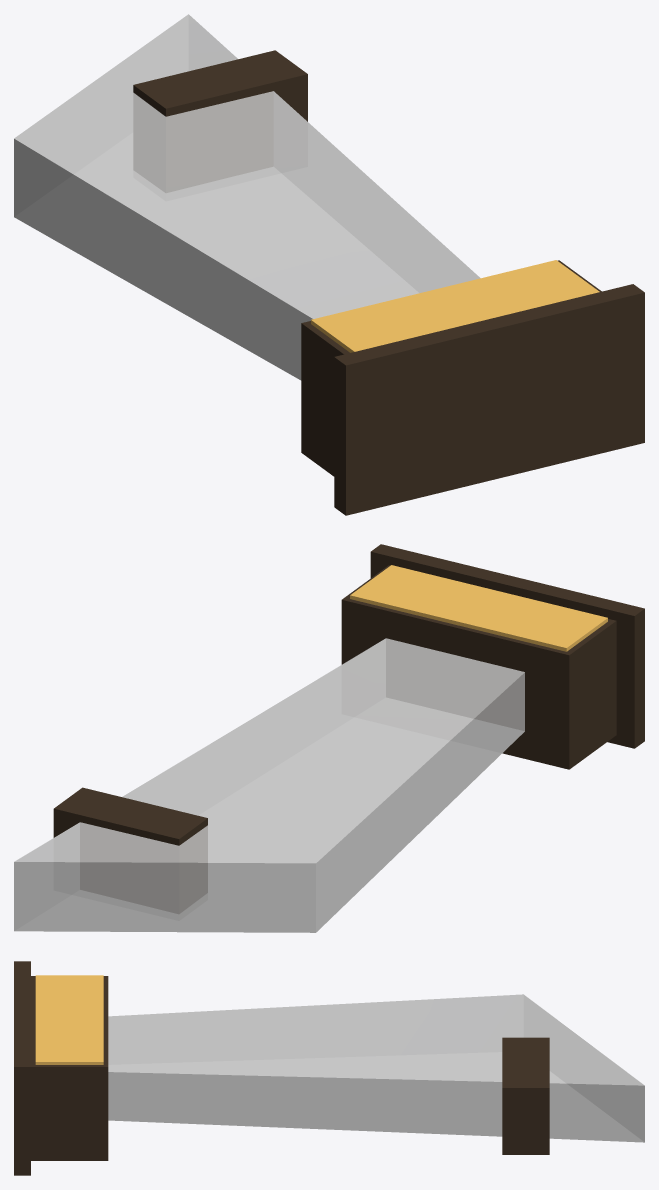
The model's file is Gift.glb.
3 renders of one model, top to bottom at view 1: azimuth 30°, elevation 25°; view 2: azimuth 150°, elevation 25°; view 3: azimuth 270°, elevation 25°, orthographic. The views are drawn at different scales.
Parts seen in each view (by area): view 1: Object_4; view 2: Object_4; view 3: Object_4.
Boxes of the visible parts, x1=… form: Object_4: x1=14, y1=14, x2=644, y2=515; Object_4: x1=14, y1=544, x2=644, y2=932; Object_4: x1=14, y1=961, x2=644, y2=1175.
Bounding box in the file's own units: 0.0722 × 0.0346 × 0.182.
